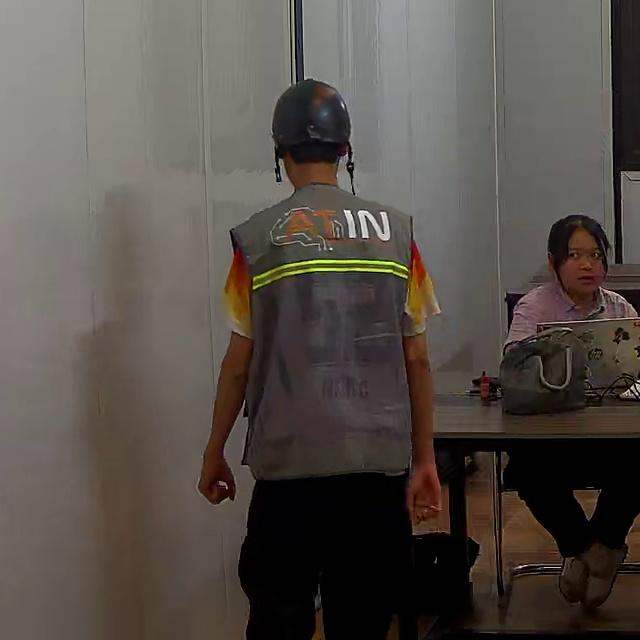helmet: (269, 77, 355, 154)
no_helmet: (547, 213, 610, 277)
none: (501, 277, 638, 358)
vest: (227, 186, 426, 483)
